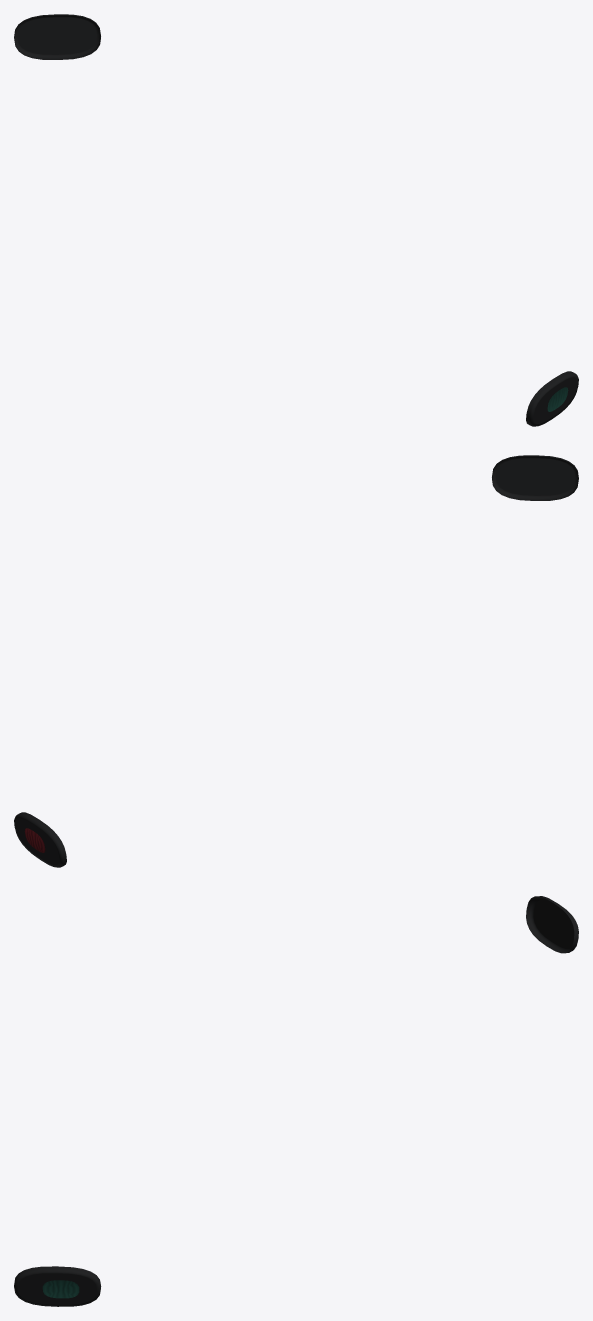
The picture shows the model from 3 angles, top to bottom: view 1: azimuth 30°, elevation 25°; view 2: azimuth 150°, elevation 25°; view 3: azimuth 330°, elevation 25°; orthographic projection.
Visible parts, largest first — view 1: xs_el3_navlight_port_420, xs_el3_navlight_stbd_420; view 2: xs_el3_navlight_stbd_420, xs_el3_navlight_port_420; view 3: xs_el3_navlight_stbd_420, xs_el3_navlight_port_420.
Boxes of the visible parts, x1,y1,x2,y2 form: xs_el3_navlight_port_420: (14,14,100,59); xs_el3_navlight_stbd_420: (526,371,578,426); xs_el3_navlight_stbd_420: (492,455,578,500); xs_el3_navlight_port_420: (14,812,66,867); xs_el3_navlight_stbd_420: (14,1266,101,1306); xs_el3_navlight_port_420: (526,896,578,953).
Bounding box in the file's own units: 0.0856 × 0.05 × 1.12.
